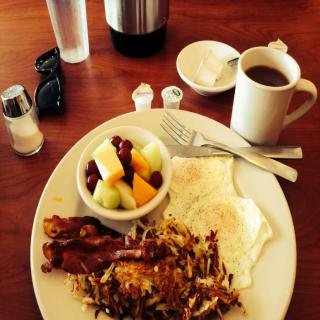Salad: (84, 131, 164, 212)
